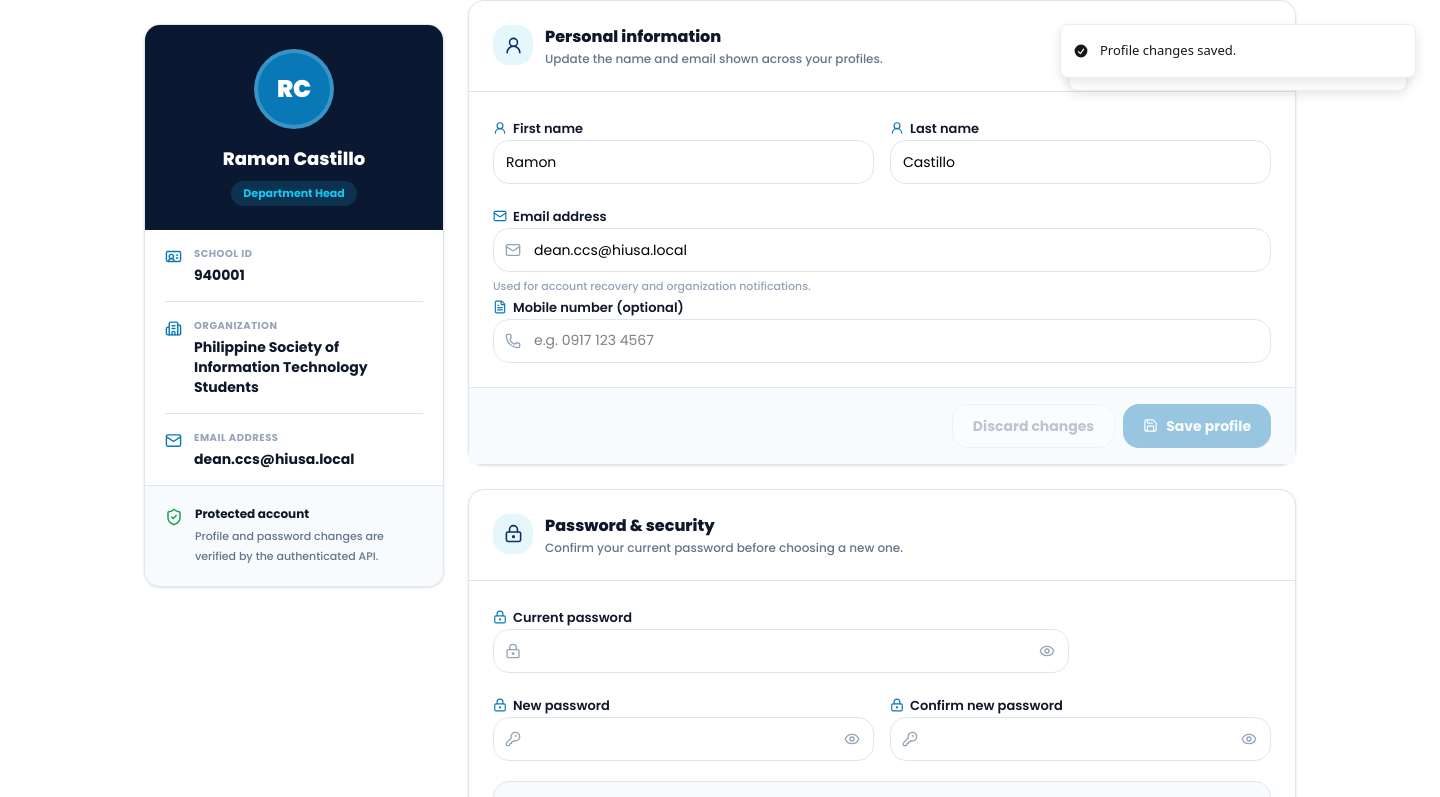
Test case: SettingsPage › provides independent password visibility controls and blocks mismatched passwords
Click the button named "Show current password" at (1047, 650), box [1025, 628, 1069, 672]
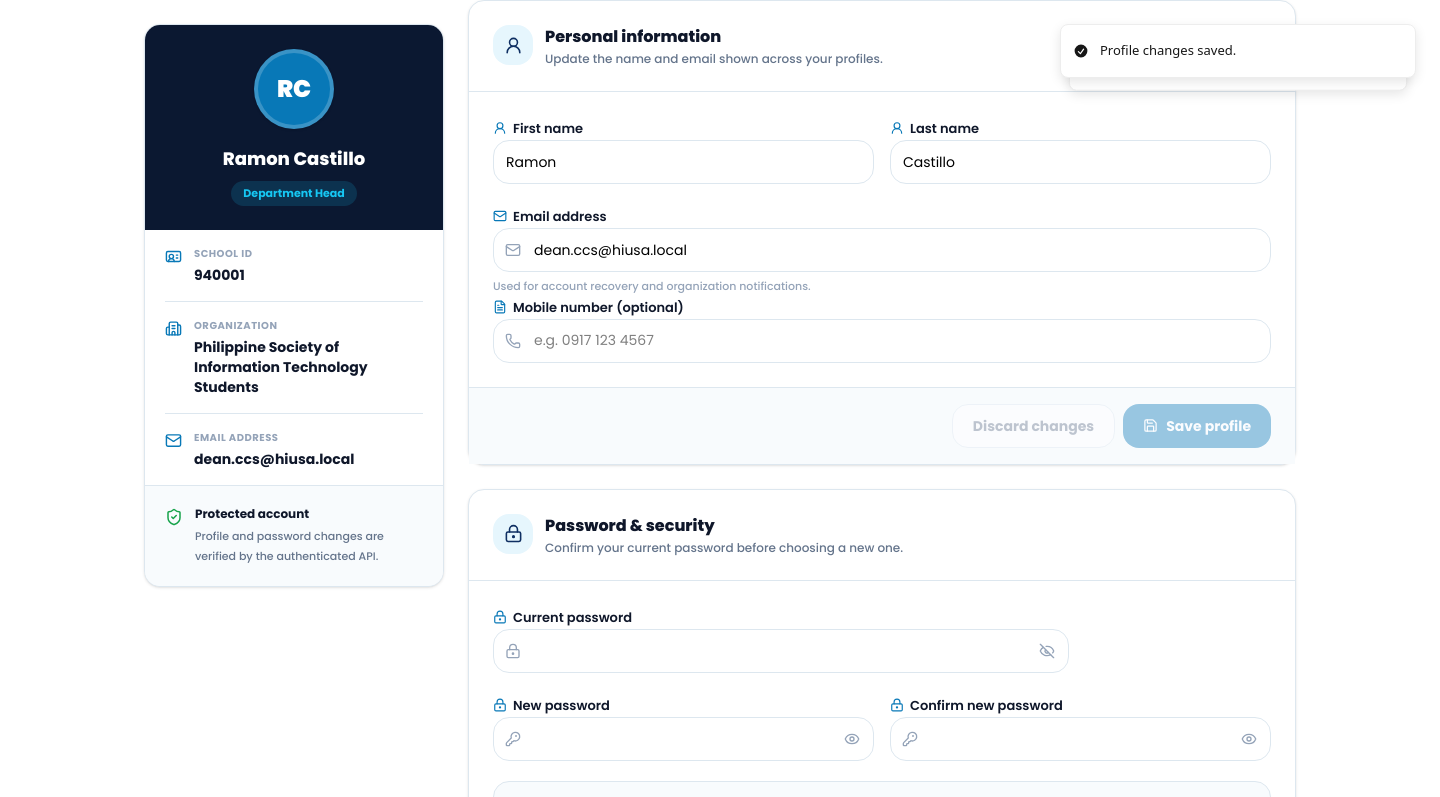
Type "current-secret" into the field labelled "Current password" at (781, 650), box [493, 628, 1069, 672]
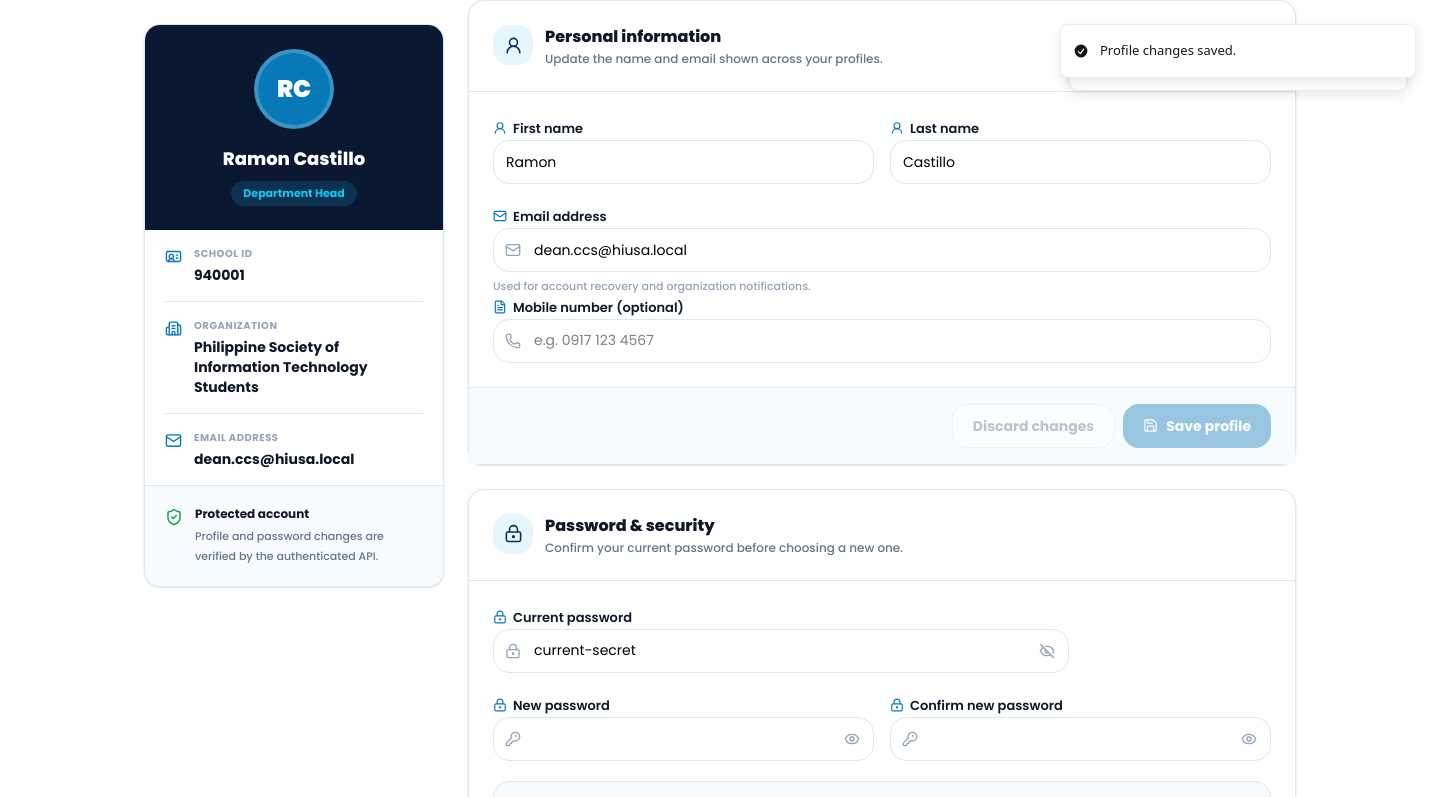
Type "new-secret" into the password field labelled "New password" at (684, 738), box [493, 716, 874, 760]
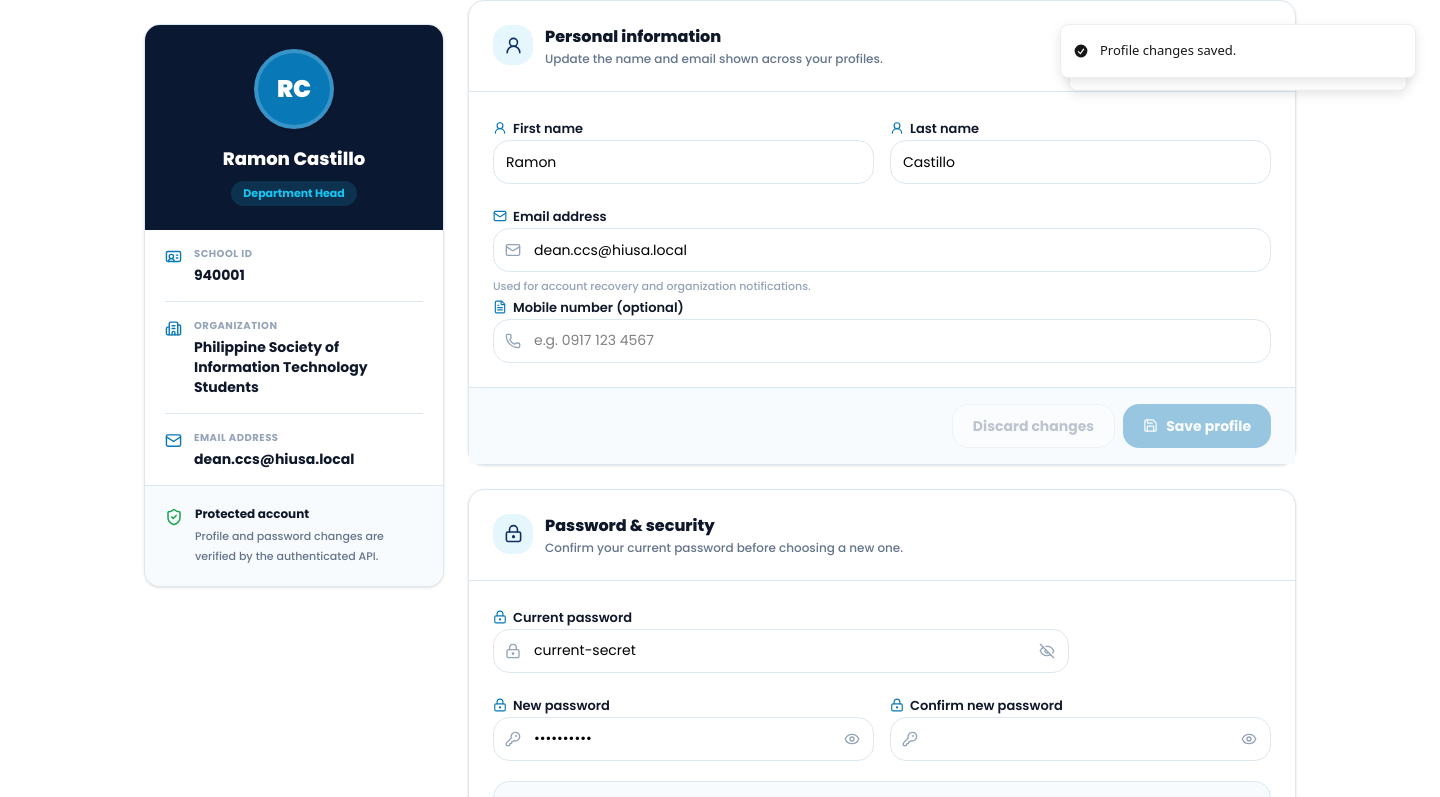
Type "different-secret" into the password field labelled "Confirm new password" at (1080, 738), box [890, 716, 1271, 760]
(page scrolled)
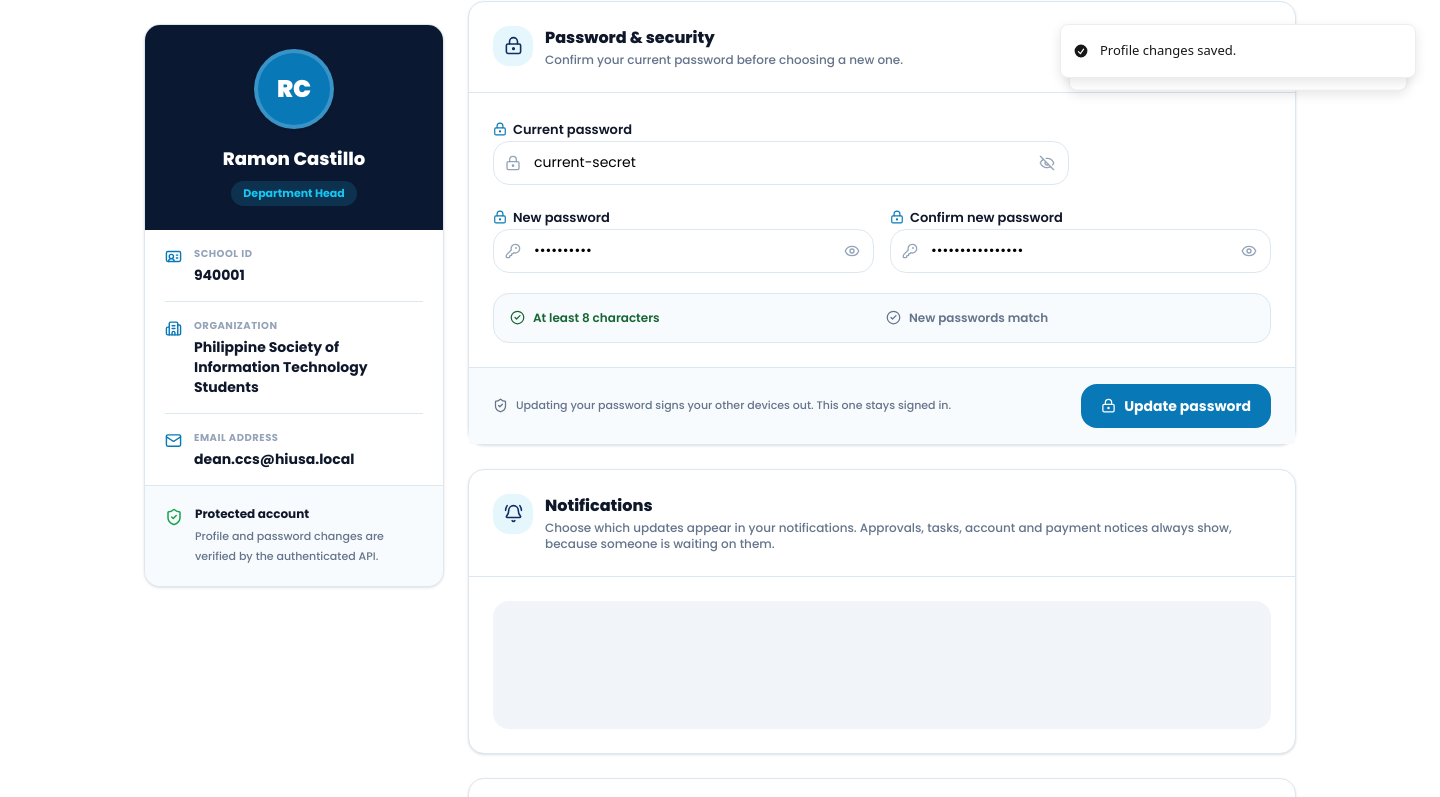
Click the button "Update password" at (1176, 406), box [1081, 384, 1271, 428]
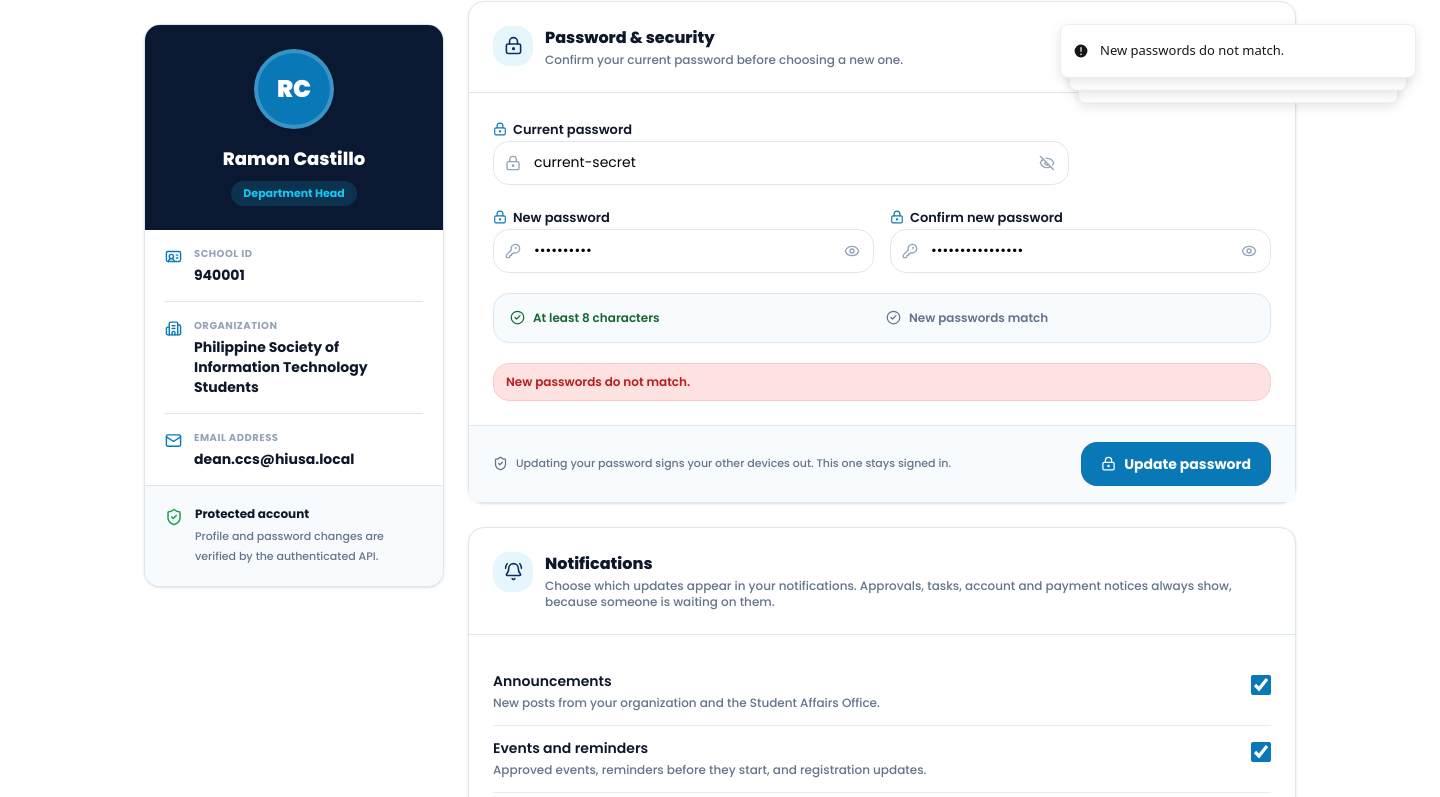
Check: the message reads "New passwords do not match.", box [506, 372, 690, 390]
